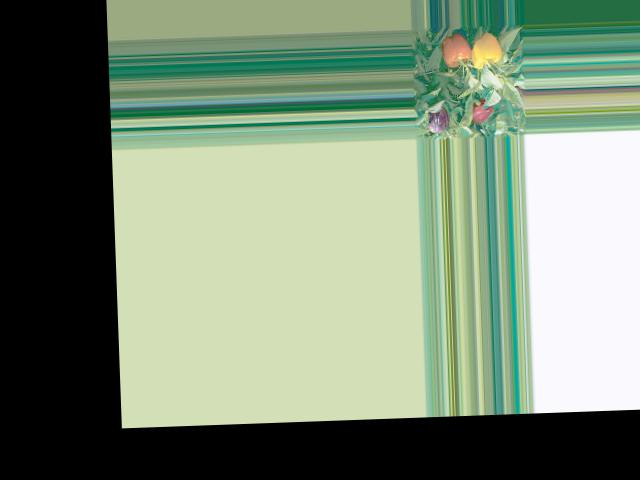bell_pepper: (463, 33, 502, 70)
